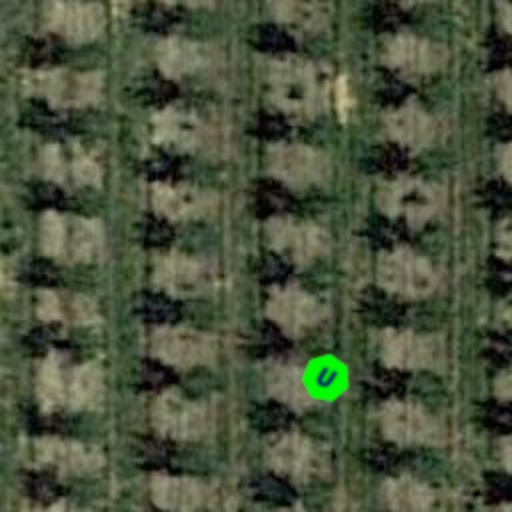heptagon: (292, 344, 360, 412)
